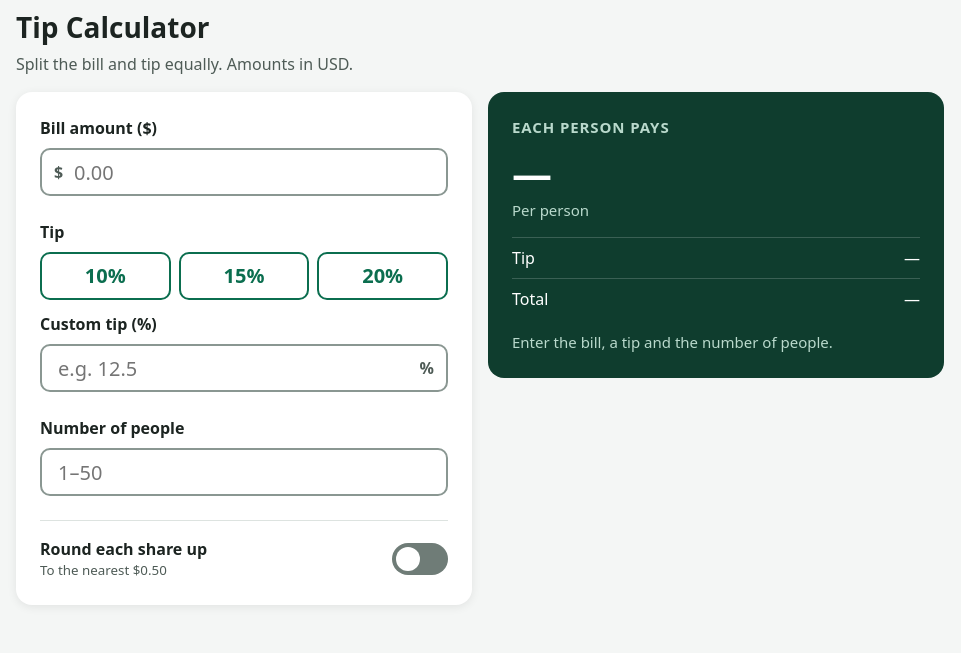
Test: S3: Split the bill and see live results › 0 people shows the valid-range message
The width and height of the screenshot is (961, 653).
Type "0" into the field labelled "Number of people".
click(244, 472); type("0")  # box [40,448,448,496]
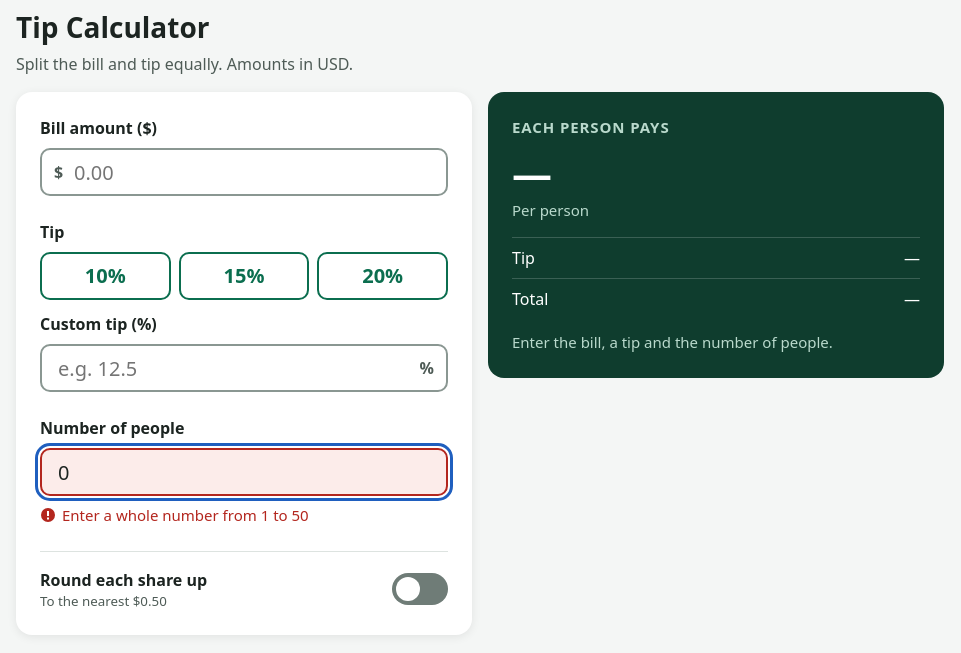
Check: the element showing "Enter a whole number from 1 to 50" is shown, box [40,505,309,525]
